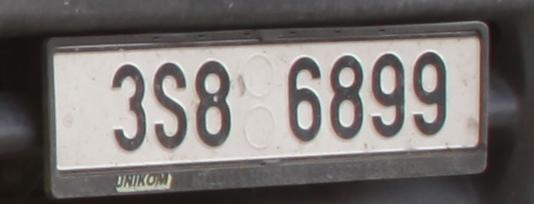3: (113, 65, 146, 151)
6: (288, 58, 321, 141)
8: (197, 61, 230, 146), (330, 57, 364, 139)
9: (414, 52, 447, 137), (372, 53, 404, 137)
S: (155, 63, 187, 149)
